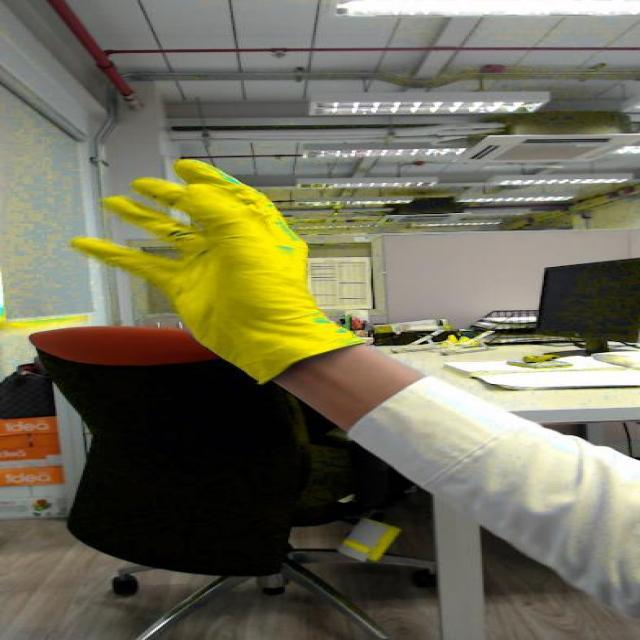gloved_hand: (37, 145, 371, 314)
